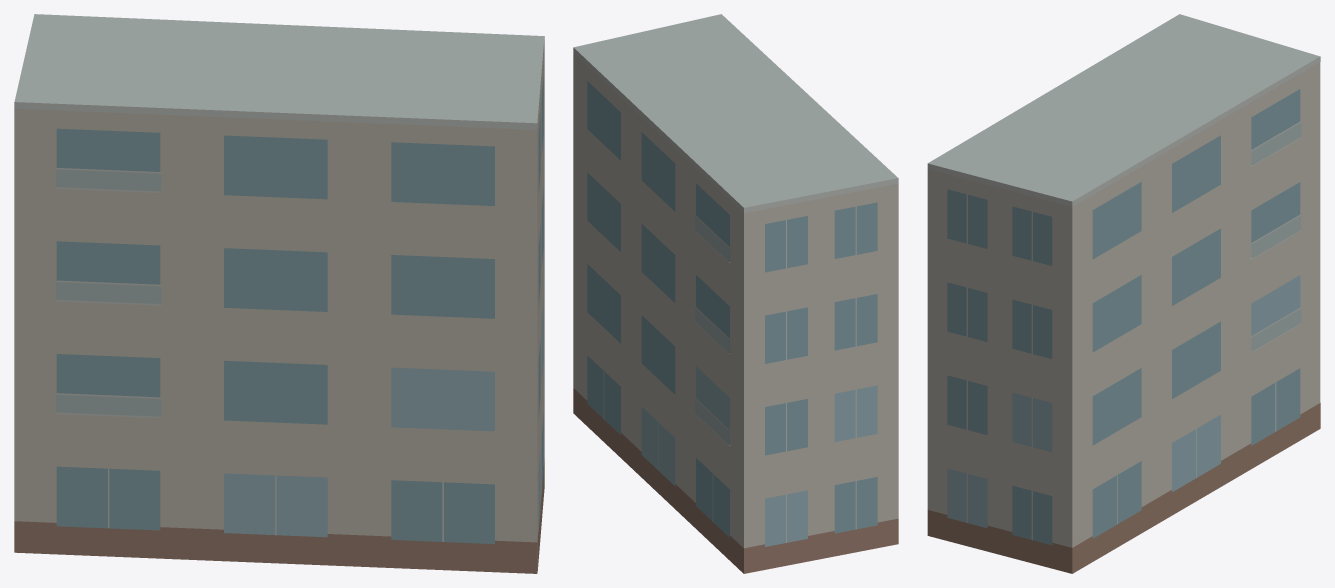
Rendered from survey-upis-32904882.glb.
The picture shows the model from 3 angles, left to right: view 1: azimuth 30°, elevation 25°; view 2: azimuth 150°, elevation 25°; view 3: azimuth 270°, elevation 25°; orthographic projection. The views are drawn at different scales.
Visible parts, largest first — view 1: survey-upis-32904882.tmp; view 2: survey-upis-32904882.tmp; view 3: survey-upis-32904882.tmp.
Boxes of the visible parts, x1=… form: survey-upis-32904882.tmp: x1=14, y1=14, x2=544, y2=573; survey-upis-32904882.tmp: x1=573, y1=14, x2=898, y2=573; survey-upis-32904882.tmp: x1=927, y1=14, x2=1320, y2=573.
Bounding box in the file's own units: 17.83 × 16.5 × 15.78.
